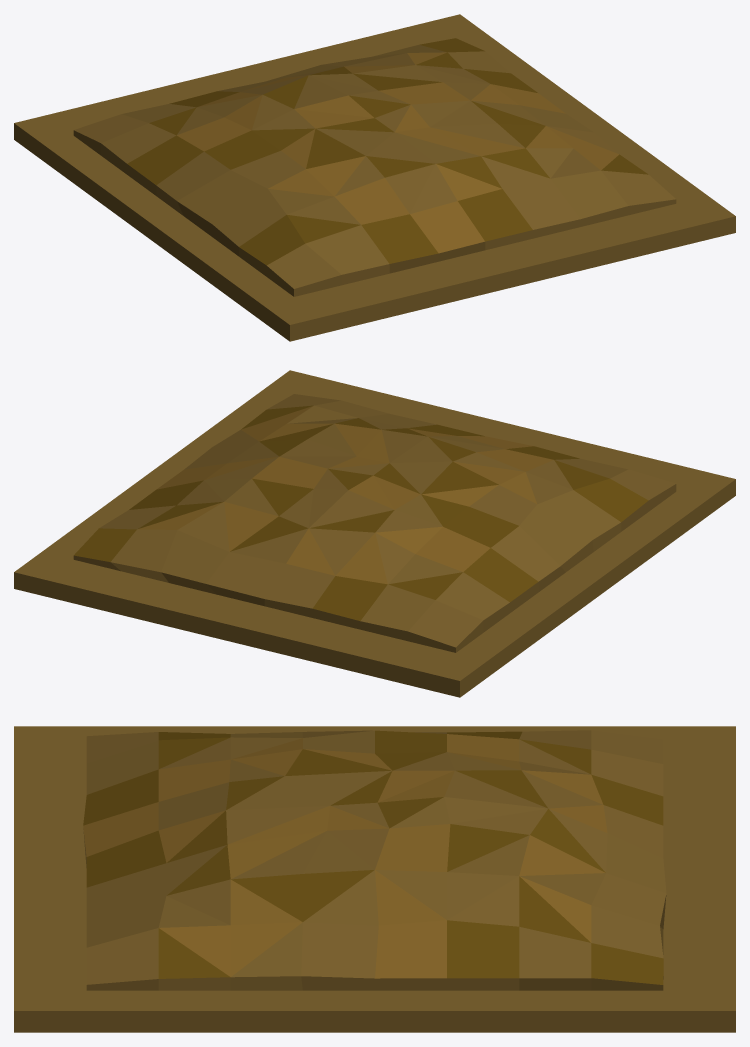
File: farming_plot.fbx
3 views of the same model, one above another, from view 1: azimuth 30°, elevation 25°; view 2: azimuth 150°, elevation 25°; view 3: azimuth 270°, elevation 25° (orthographic). The views are drawn at different scales.
Parts seen in each view (by area): view 1: Cube.003; view 2: Cube.003; view 3: Cube.003.
Part boxes in pixels (x1,y1,x2,y2): Cube.003: (14,14,735,341); Cube.003: (14,370,735,697); Cube.003: (14,726,735,1032).
Bounding box in the file's own units: 1.4 × 0.2143 × 1.5.
Materials: 3 (3 with a texture image).
